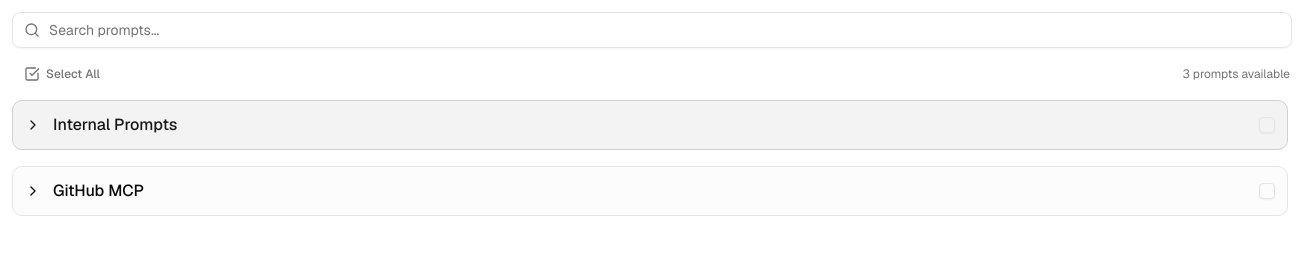
Test: PromptPicker › filters prompts by search keyword
Type "grammar" into the field with placeholder "Search prompts..." at point(652, 30), box [12,12,1292,48]
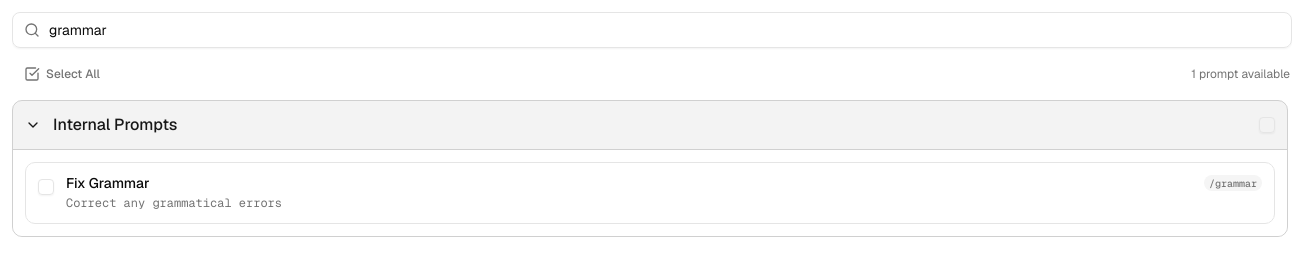
Expected: the text "Fix Grammar" is shown, [66,176,150,190]
